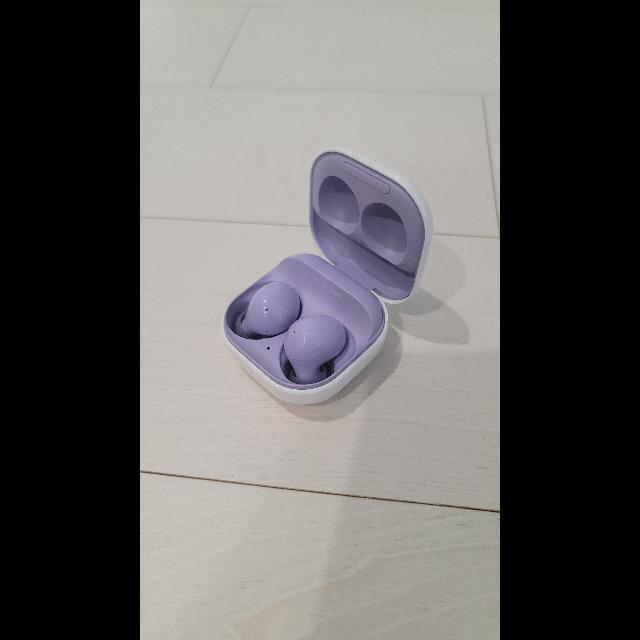GALAXY-BUDS-2: (222, 150, 432, 404)
